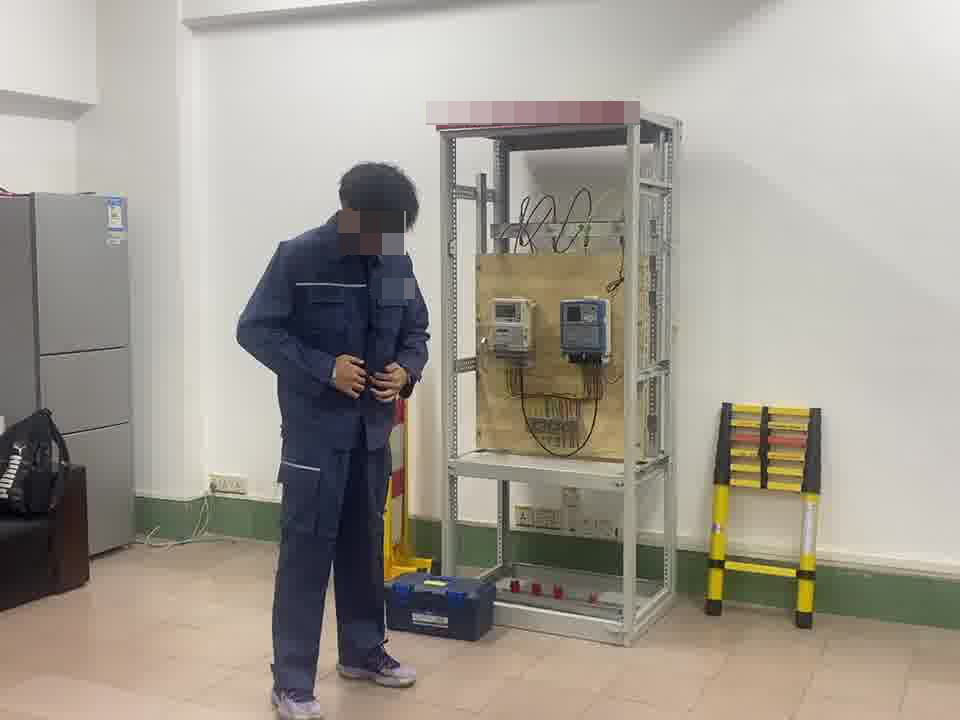downsuit: (267, 466, 397, 693)
hand: (332, 354, 370, 401), (371, 360, 408, 404)
noear: (334, 203, 355, 227)
person: (236, 157, 433, 714)
unhalt: (336, 160, 421, 249)
upsuit: (241, 221, 426, 453)
